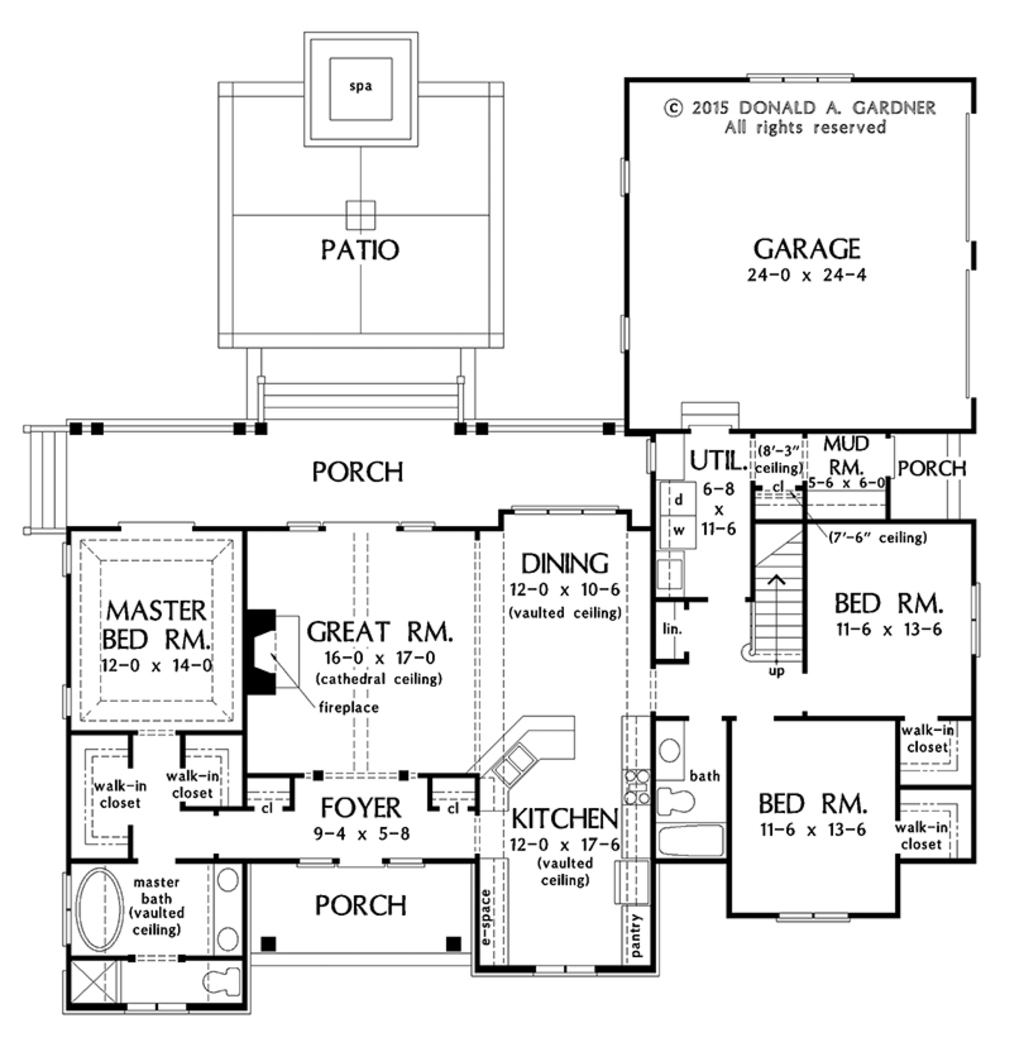large_sink: (192, 958, 245, 1009), (650, 779, 711, 822)
small_sink: (203, 856, 251, 966), (653, 719, 687, 779)
stairs: (738, 513, 819, 671)
tub: (659, 817, 730, 858)
twin_sink: (482, 732, 540, 788)
window: (501, 492, 624, 514), (747, 69, 861, 88), (771, 900, 853, 925), (529, 959, 592, 980), (642, 438, 669, 485), (53, 538, 77, 585), (618, 317, 643, 358), (618, 148, 635, 204)
